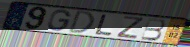9: (24, 6, 49, 31)
B: (140, 18, 167, 42)
D: (67, 10, 96, 34)
G: (47, 9, 72, 32)
L: (93, 14, 114, 37)
Z: (115, 15, 146, 40)
